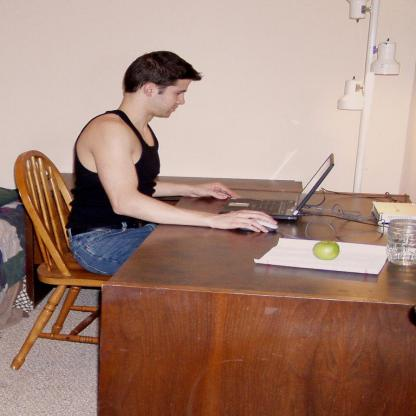board: (220, 153, 337, 218)
